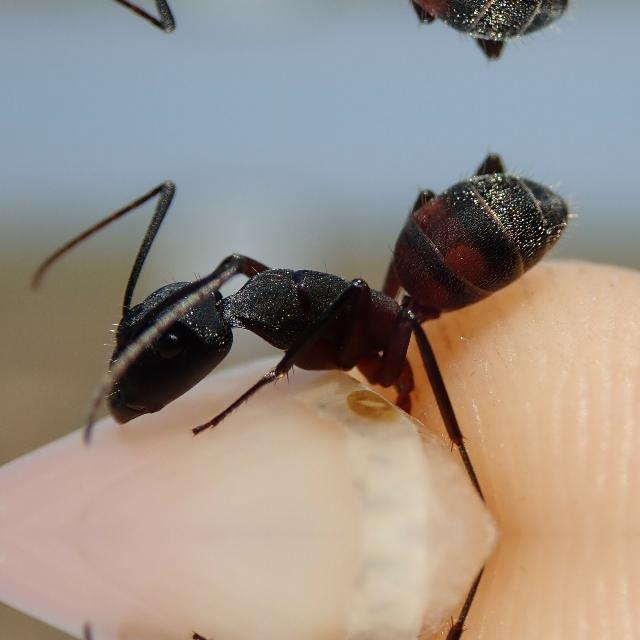Camponotus: (61, 160, 595, 446)
